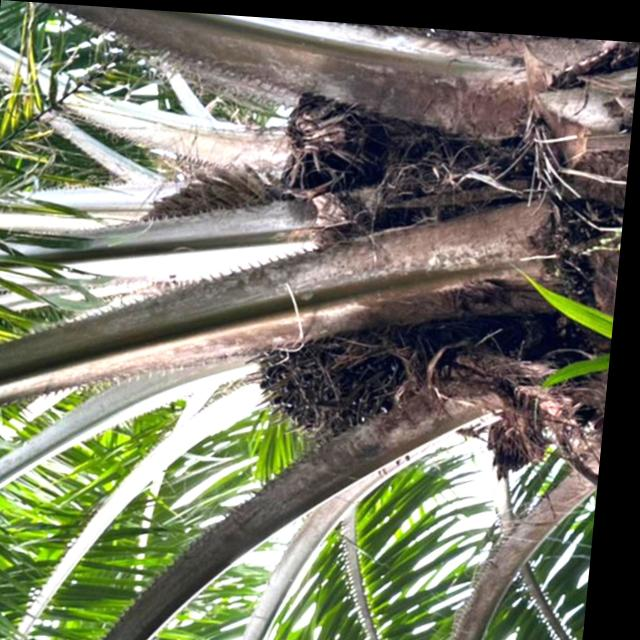unripe: (239, 280, 467, 457), (233, 281, 391, 474), (386, 298, 422, 476)
